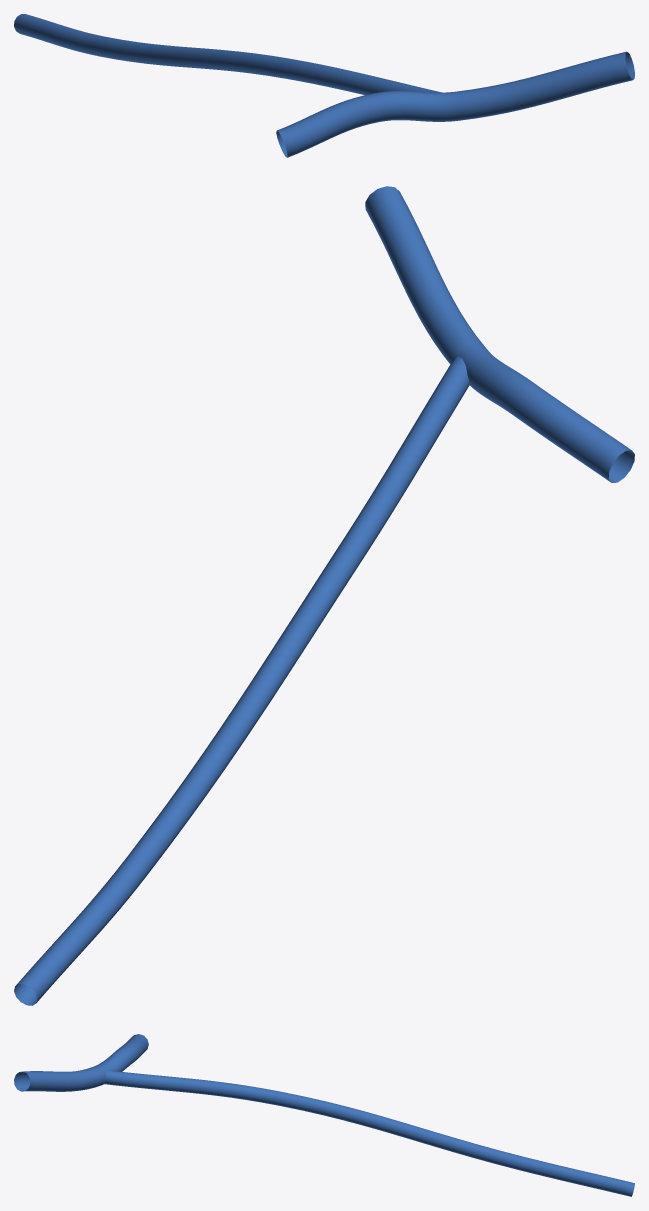
3 renders of one model, top to bottom at view 1: azimuth 30°, elevation 25°; view 2: azimuth 150°, elevation 25°; view 3: azimuth 270°, elevation 25°, orthographic. The views are drawn at different scales.
Visible parts, largest first — view 1: 右侧肘正中静脉; view 2: 右侧肘正中静脉; view 3: 右侧肘正中静脉.
Boxes of the visible parts, bbox=[...] form: 右侧肘正中静脉: bbox=[14, 14, 634, 157]; 右侧肘正中静脉: bbox=[14, 186, 634, 1005]; 右侧肘正中静脉: bbox=[14, 1034, 634, 1196].
Bounding box in the file's own units: 0.0594 × 0.0533 × 0.1658.
